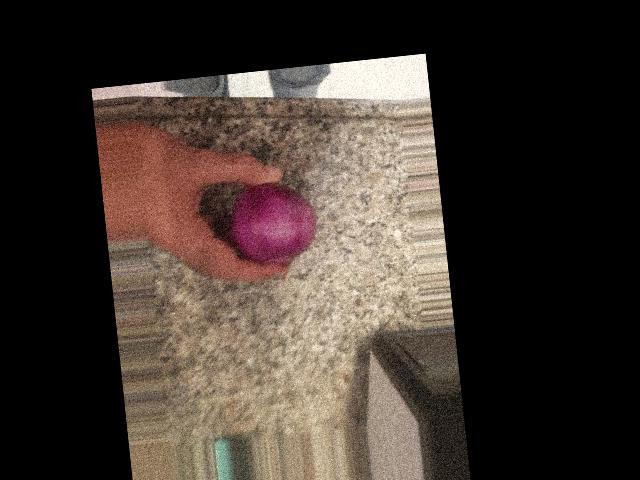onion: (317, 241, 413, 332)
